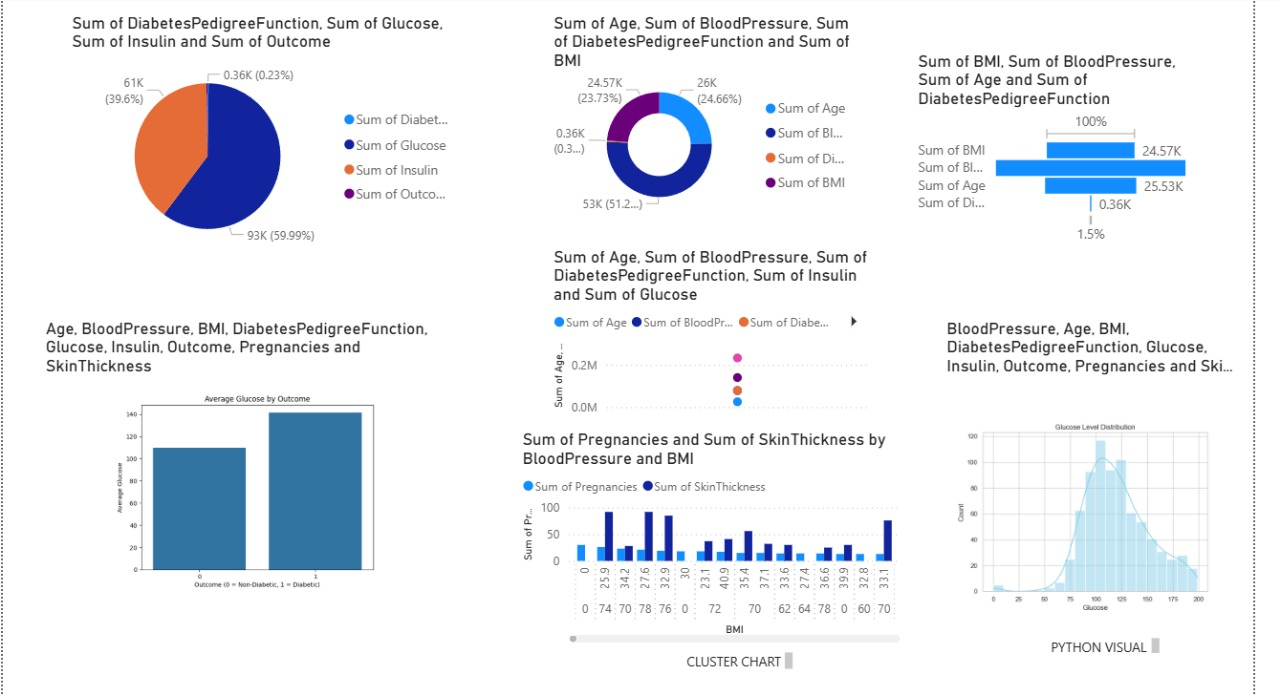

This screenshot's page, from the dashboard's own definition file:
{"tool":"powerbi","page":{"name":"Page 1","canvas":[1280,720],"ordinal":0},"visuals":[{"type":"lineClusteredColumnComboChart","fields":{"Y":["Sum(diabetes.Pregnancies)","Sum(diabetes.SkinThickness)"],"Category":["diabetes.BloodPressure","diabetes.BMI"]},"box":[527,443.9,396.2,223.8],"z":0},{"type":"pythonVisual","fields":{"Values":["diabetes.Age","diabetes.BloodPressure","diabetes.BMI","diabetes.DiabetesPedigreeFunction","diabetes.Glucose","diabetes.Insulin","diabetes.Outcome","diabetes.Pregnancies","diabetes.SkinThickness"]},"box":[38.9,329.6,434.8,286.8],"z":1000},{"type":"donutChart","fields":{"Y":["Sum(diabetes.Age)","Sum(diabetes.BloodPressure)","Sum(diabetes.DiabetesPedigreeFunction)","Sum(diabetes.BMI)"]},"box":[558.8,17.1,319.2,212.8],"z":2000},{"type":"stackedAreaChart","fields":{"Y":["Sum(diabetes.Age)","Sum(diabetes.BloodPressure)","Sum(diabetes.DiabetesPedigreeFunction)","Sum(diabetes.Insulin)","Sum(diabetes.Glucose)"]},"box":[558.8,256.8,331.4,178.5],"z":3000},{"type":"pieChart","fields":{"Y":["Sum(diabetes.DiabetesPedigreeFunction)","Sum(diabetes.Glucose)","Sum(diabetes.Insulin)","Sum(diabetes.Outcome)"]},"box":[66,17.1,407.2,255.6],"z":4000},{"type":"pythonVisual","fields":{"Values":["diabetes.BloodPressure","diabetes.Age","diabetes.BMI","diabetes.DiabetesPedigreeFunction","diabetes.Glucose","diabetes.Insulin","diabetes.Outcome","diabetes.Pregnancies","diabetes.SkinThickness"]},"box":[961.6,329.6,306.3,337.4],"z":6000},{"type":"textbox","box":[694.6,667.7,118.6,34.2],"z":6002},{"type":"textbox","box":[1067.5,653,121.1,28.1],"z":6003},{"type":"funnel","fields":{"Y":["Sum(diabetes.BMI)","Sum(diabetes.BloodPressure)","Sum(diabetes.Age)","Sum(diabetes.DiabetesPedigreeFunction)"]},"box":[931.8,56.3,288.6,200.5],"z":6004}]}

Visuals, with their boxes on the page's 1280x720 design canvas (x1, y1, x2, y2). These are canvas units, not pixel positions in the 1280x695 screenshot, which may show the page scaled, cropped or inside an application window:
lineClusteredColumnComboChart - Sum(diabetes.Pregnancies) x Sum(diabetes.SkinThickness): [527, 444, 923, 668]
pythonVisual - diabetes.Age x diabetes.BloodPressure: [39, 330, 474, 616]
donutChart - Sum(diabetes.Age) x Sum(diabetes.BloodPressure): [559, 17, 878, 230]
stackedAreaChart - Sum(diabetes.Age) x Sum(diabetes.BloodPressure): [559, 257, 890, 435]
pieChart - Sum(diabetes.DiabetesPedigreeFunction) x Sum(diabetes.Glucose): [66, 17, 473, 273]
pythonVisual - diabetes.BloodPressure x diabetes.Age: [962, 330, 1268, 667]
textbox: [695, 668, 813, 702]
textbox: [1068, 653, 1189, 681]
funnel - Sum(diabetes.BMI) x Sum(diabetes.BloodPressure): [932, 56, 1220, 257]
